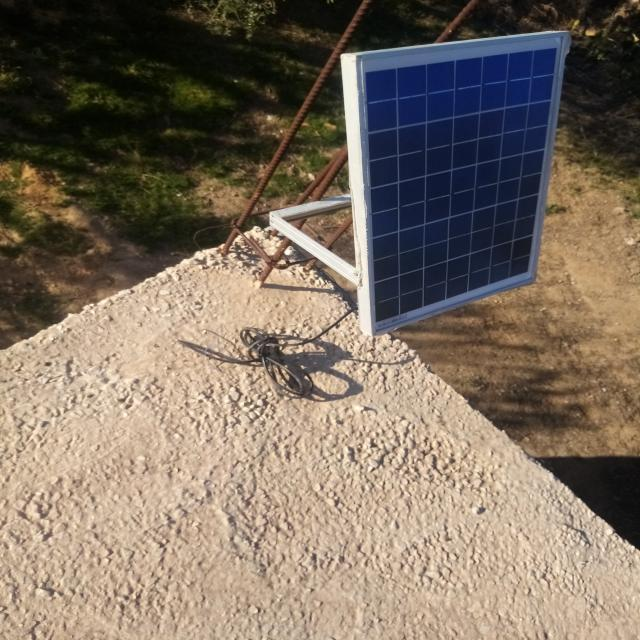no faulty: (355, 31, 567, 335)
